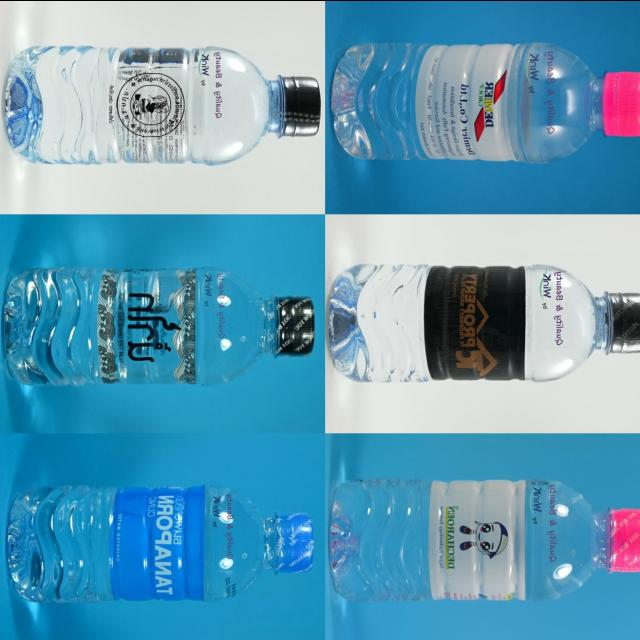plastik: (330, 478, 640, 601), (6, 46, 321, 164), (331, 42, 640, 162), (329, 263, 640, 382), (4, 266, 315, 384), (7, 483, 313, 601)
